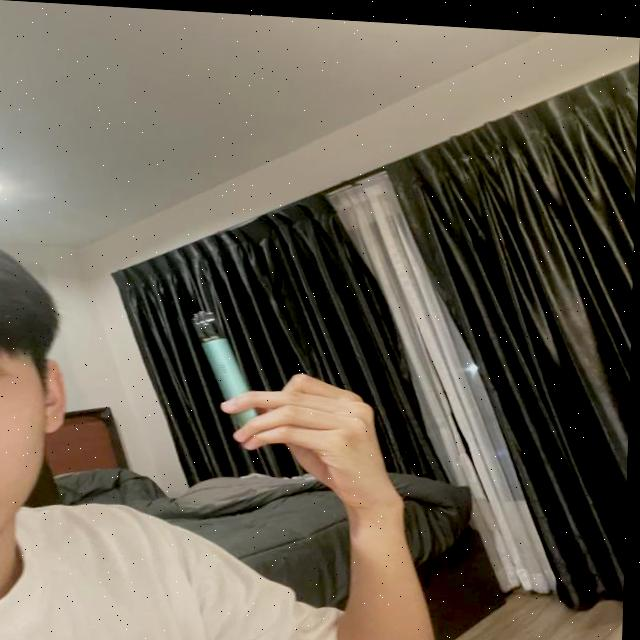vape: (190, 307, 262, 423)
